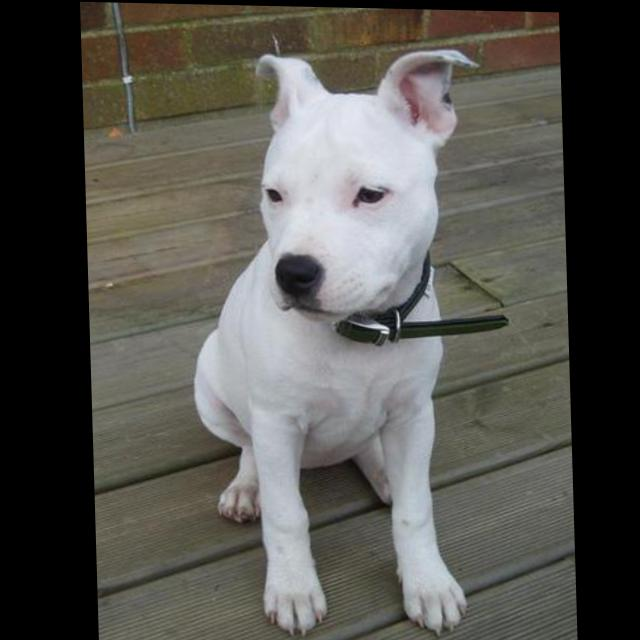staffford: (184, 41, 495, 640)
